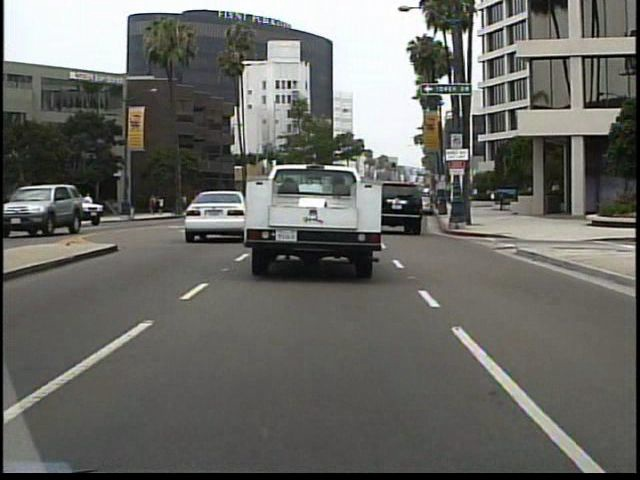person: (17, 192, 38, 230), (82, 189, 98, 225), (118, 186, 134, 217), (71, 192, 86, 225)
